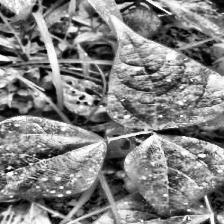Bean Rust: (110, 12, 224, 128), (122, 130, 224, 219), (0, 116, 105, 197)
